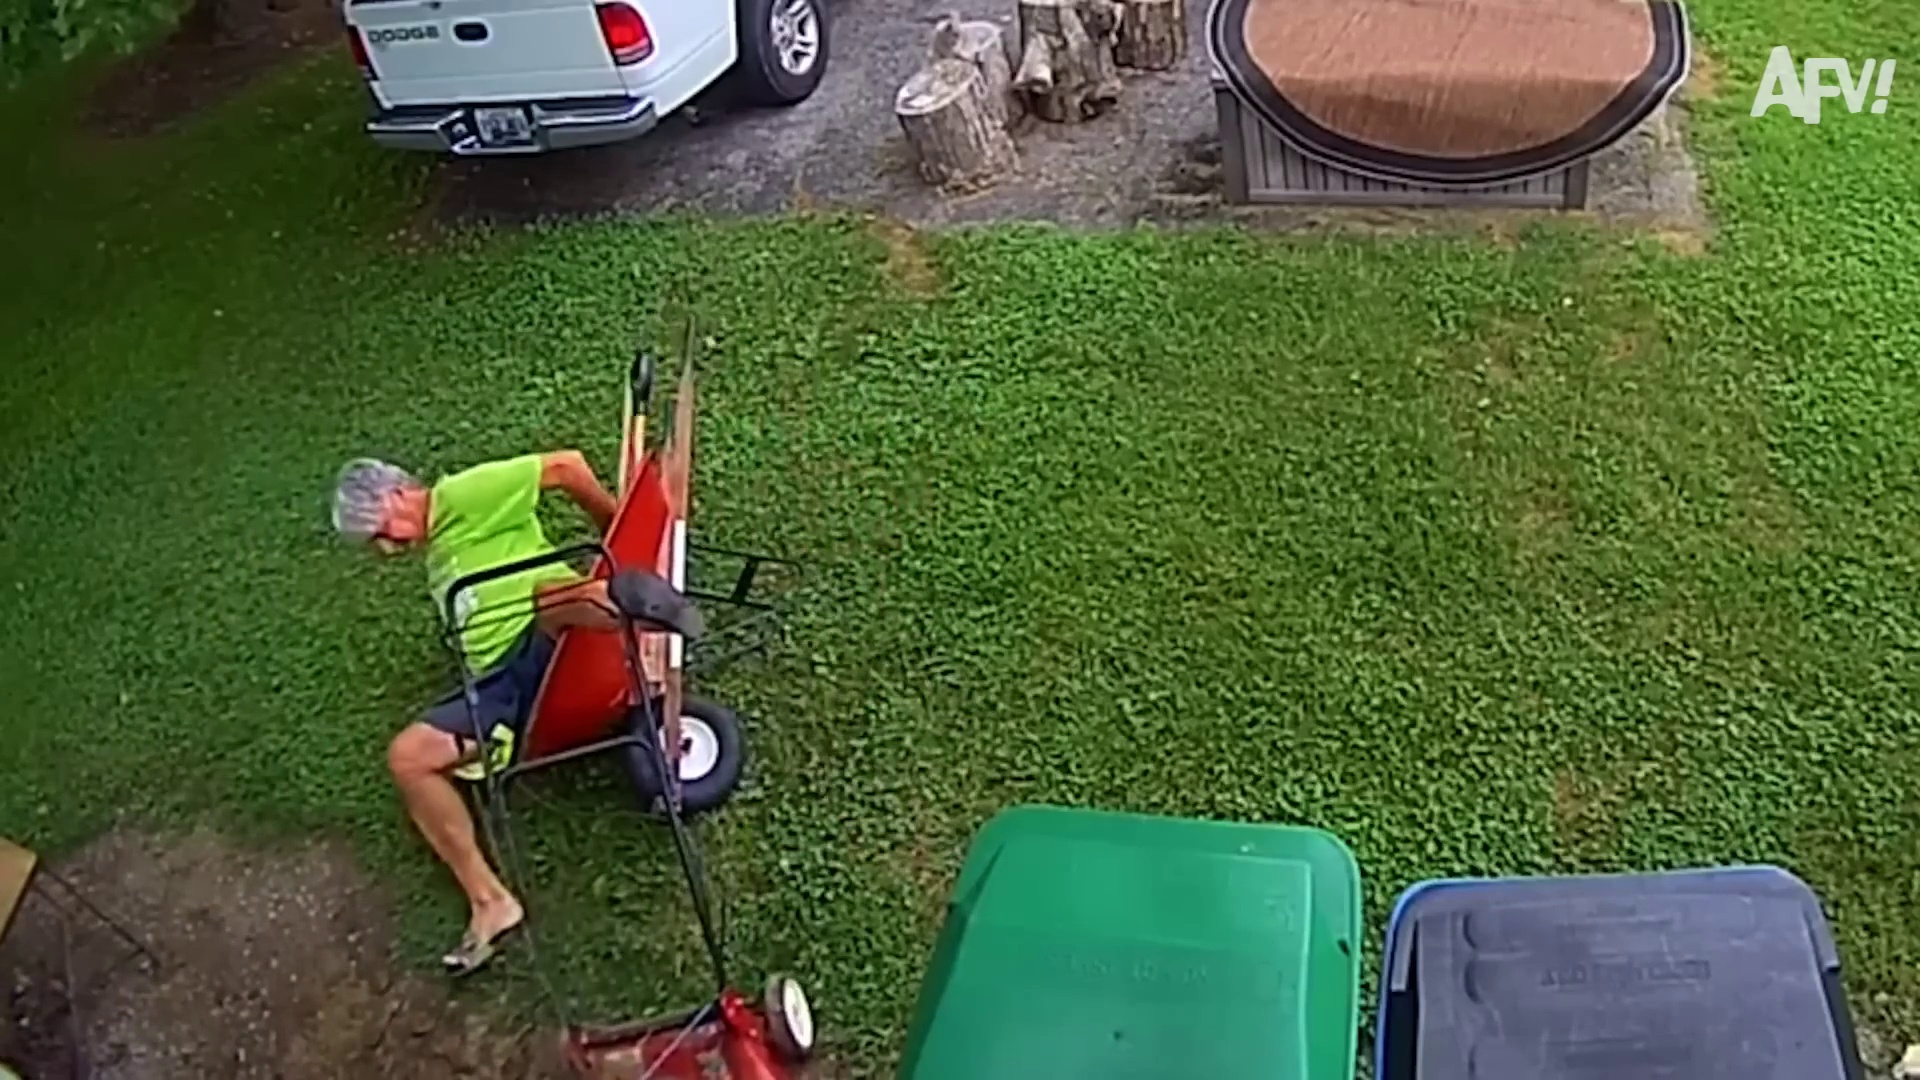fall: (222, 407, 757, 1032)
person: (301, 391, 719, 940)
